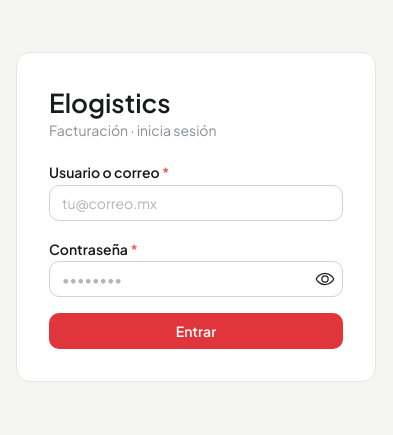
LoginPage › shows the API error message on failed login
Type "admin@test.mx" into the field labelled "Usuario o correo *".
click(196, 203); type("admin@test.mx")  # box [49,185,343,221]
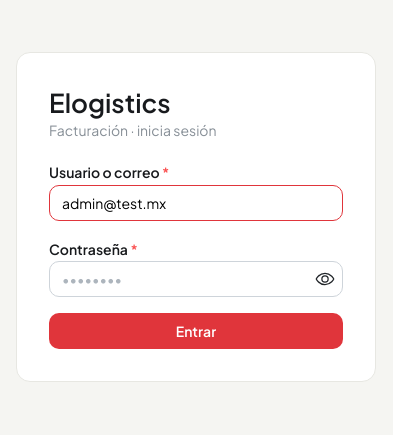
Type "wrong" into the password field labelled "Contraseña *".
click(196, 280); type("wrong")  # box [50,262,342,296]
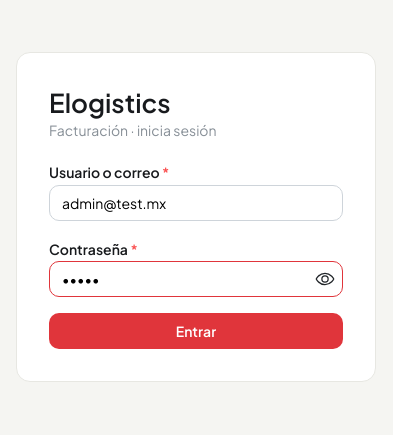
Click the button "Entrar".
click(196, 332)  # box [49,314,343,350]
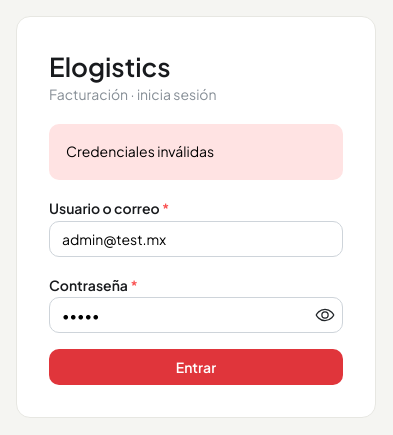
Expected: the text "Credenciales inválidas" is shown, [66,142,214,160]
